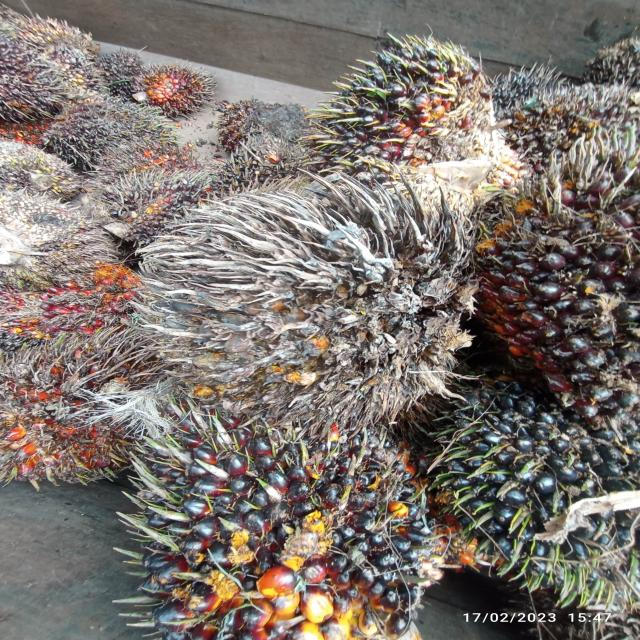fraksi 00: (78, 370, 473, 640), (425, 360, 640, 624), (477, 144, 640, 432), (288, 19, 516, 191), (39, 86, 149, 184)
fraksi 3: (132, 55, 217, 120)
fraksi 4: (0, 318, 137, 514), (16, 254, 186, 345)
